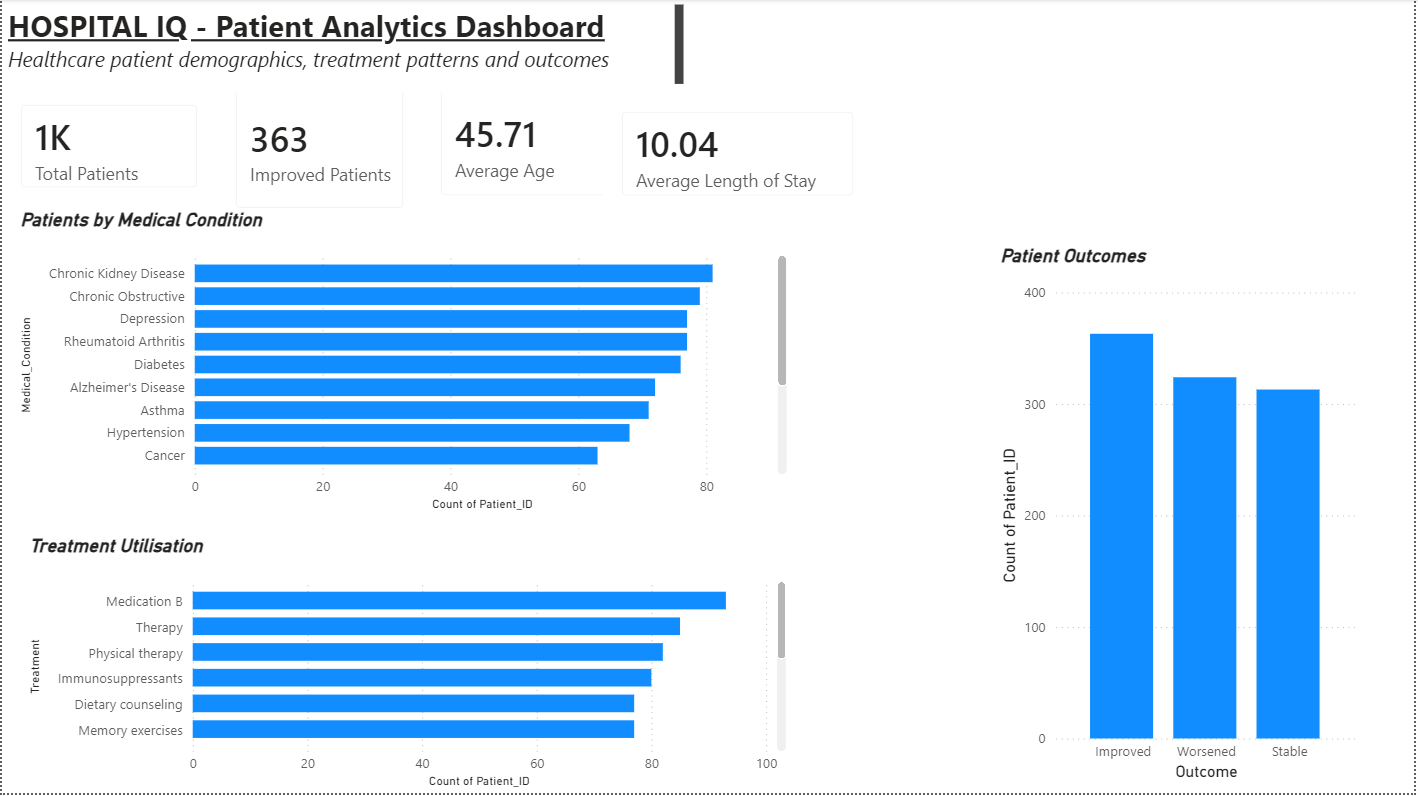

The page's visual inventory and layout, read from the dashboard file:
{"tool":"powerbi","page":{"name":"PatientOverview","canvas":[1280,720],"ordinal":0},"visuals":[{"type":"cardVisual","fields":{"Data":["Patients.Total Patients"]},"box":[0,78.5,194.6,109.2],"z":0},{"type":"cardVisual","fields":{"Data":["Patients.Average Age"]},"box":[380.6,66.6,189.4,129.7],"z":1000},{"type":"cardVisual","fields":{"Data":["Patients.Average Length of Stay"]},"box":[544.8,85.1,244.1,110.9],"z":2000},{"type":"cardVisual","fields":{"Data":["Patients.Improved Patients"]},"box":[194.6,63.1,186,143.4],"z":3000},{"type":"clusteredBarChart","title":"Patients by Medical Condition","fields":{"Category":["Patients.Medical_Condition"],"Y":["CountNonNull(Patients.Patient_ID)"]},"box":[11.4,189.2,704.8,279.4],"z":4000},{"type":"clusteredBarChart","title":"Treatment Utilisation","fields":{"Category":["Patients.Treatment"],"Y":["CountNonNull(Patients.Patient_ID)"]},"box":[20.3,485.1,695.9,234.9],"z":5000},{"type":"clusteredColumnChart","title":"Patient Outcomes","fields":{"Category":["Patients.Outcome"],"Y":["CountNonNull(Patients.Patient_ID)"]},"box":[900.3,222.2,332.7,491.4],"z":6000},{"type":"textbox","box":[0,0,623,85.2],"z":7000}]}

Visuals, with their boxes in screenshot pixels (x1, y1, x2, y2), scaled from the page's 1280x720 canvas onto the 1418x796 screenshot:
cardVisual - Patients.Total Patients: [0,87,216,208]
cardVisual - Patients.Average Age: [422,74,631,217]
cardVisual - Patients.Average Length of Stay: [604,94,874,217]
cardVisual - Patients.Improved Patients: [216,70,422,228]
"Patients by Medical Condition" clusteredBarChart: [13,209,793,518]
"Treatment Utilisation" clusteredBarChart: [22,536,793,795]
"Patient Outcomes" clusteredColumnChart: [997,246,1366,789]
textbox: [0,0,690,94]
